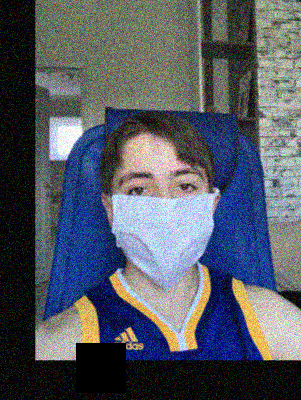with_mask: (109, 165, 215, 290)
